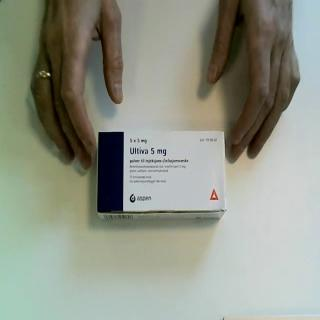ultiva5mg: (96, 129, 230, 225)
